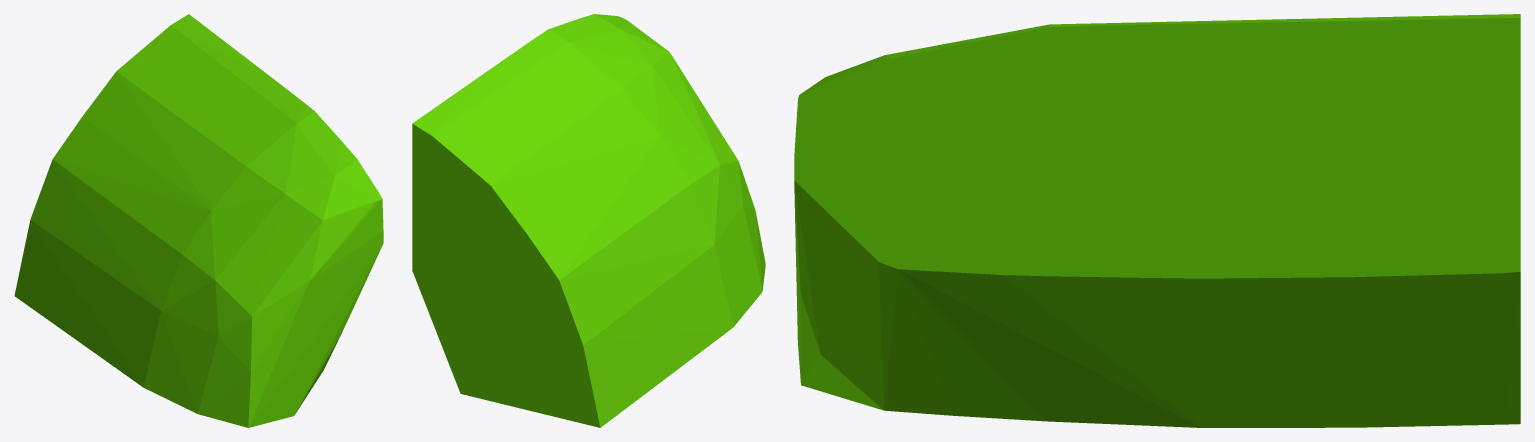
3 views of the same model, side by side, from view 1: azimuth 30°, elevation 25°; view 2: azimuth 150°, elevation 25°; view 3: azimuth 270°, elevation 25° (orthographic). The views are drawn at different scales.
Size of the model in its own units: 2.19 by 2.87 by 4.23.
